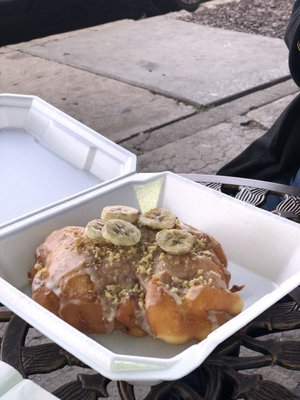burger: (275, 193, 300, 223)
